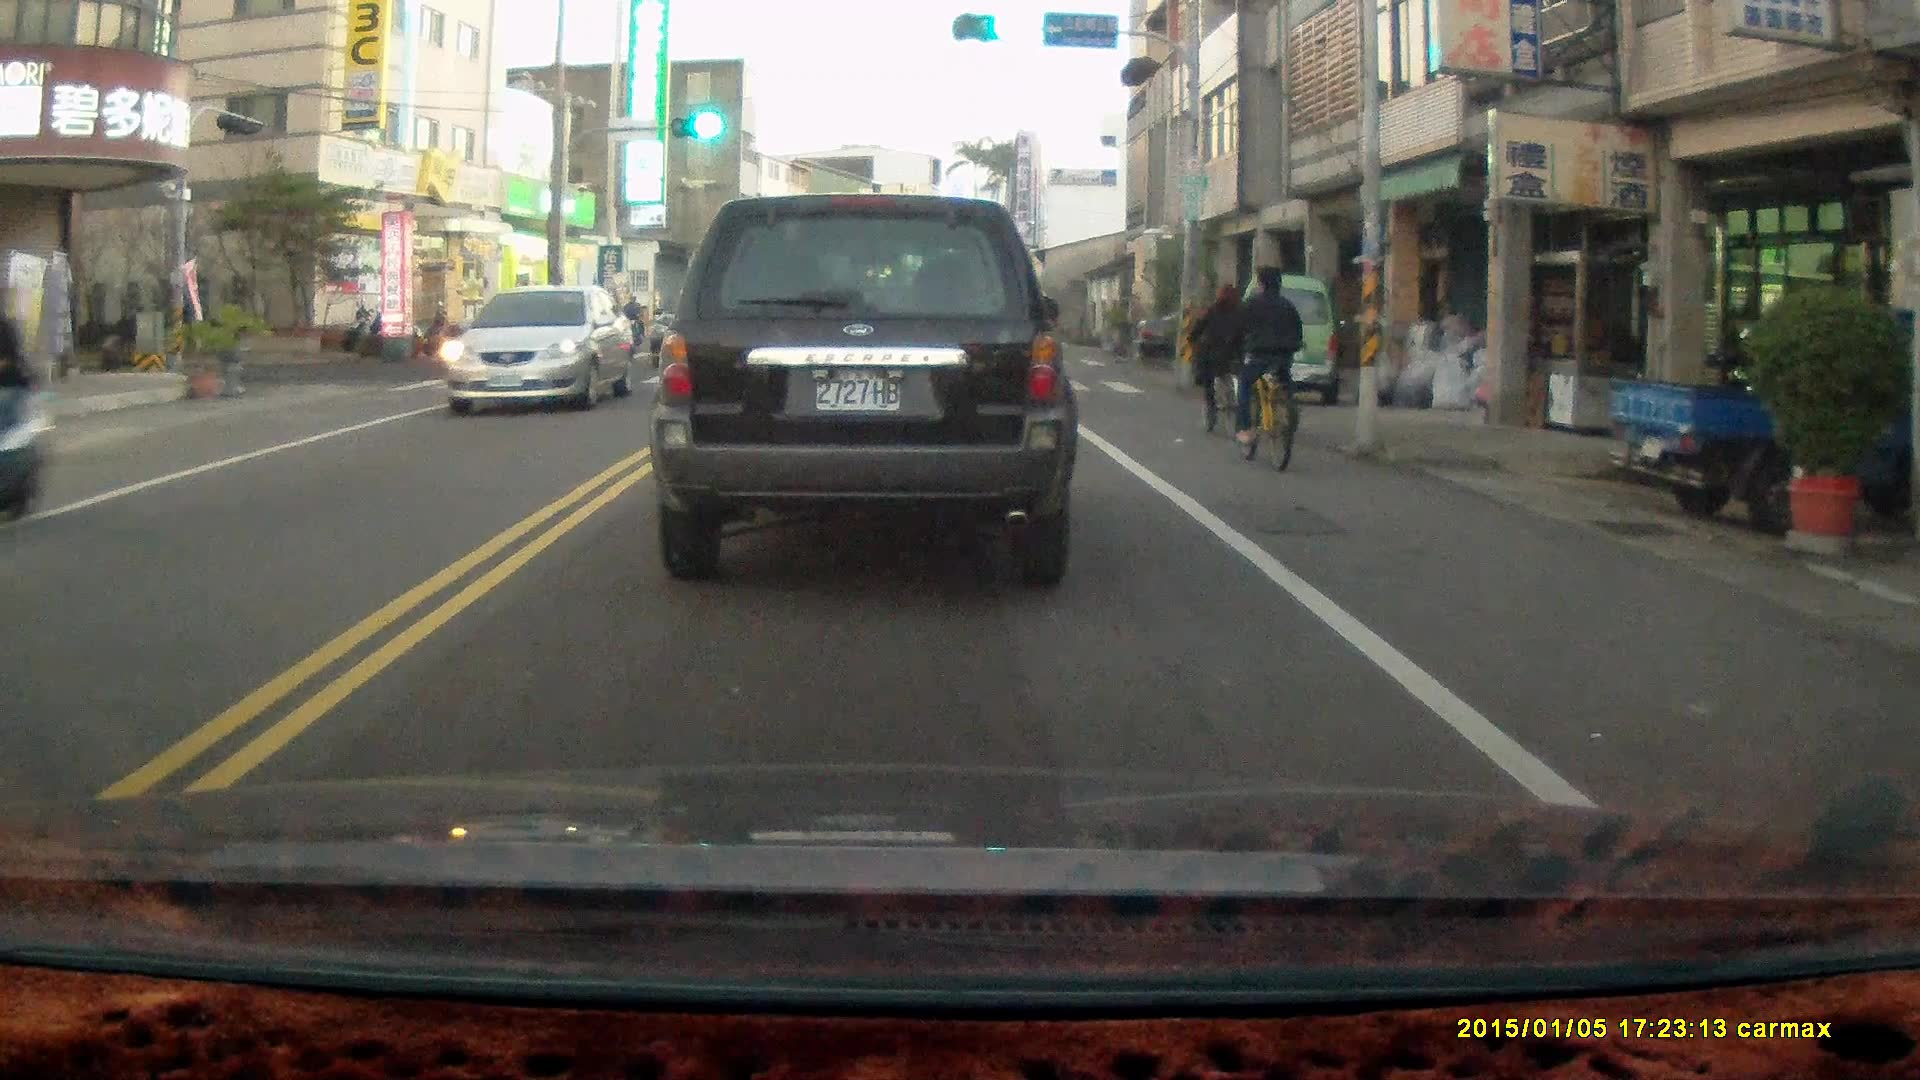rider: (1219, 264, 1303, 472), (0, 273, 54, 540), (1183, 278, 1251, 440), (97, 297, 164, 373)
vehicle: (661, 185, 1078, 579), (439, 284, 635, 413), (1232, 277, 1347, 402)
